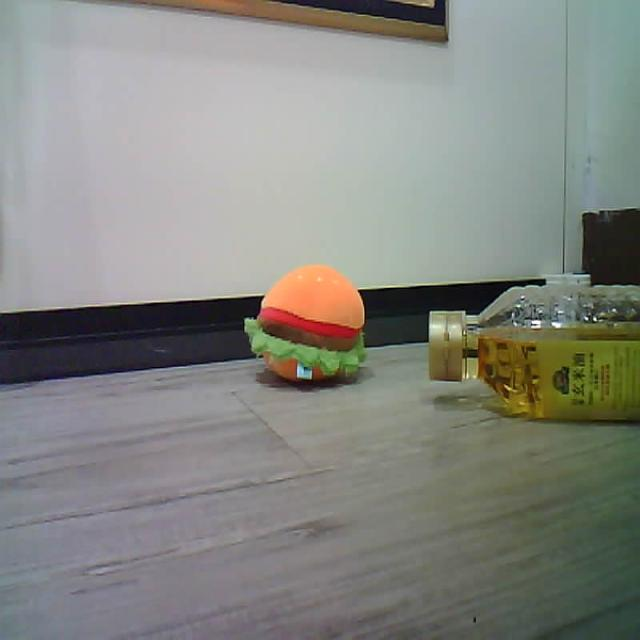bottle: (429, 283, 639, 418)
